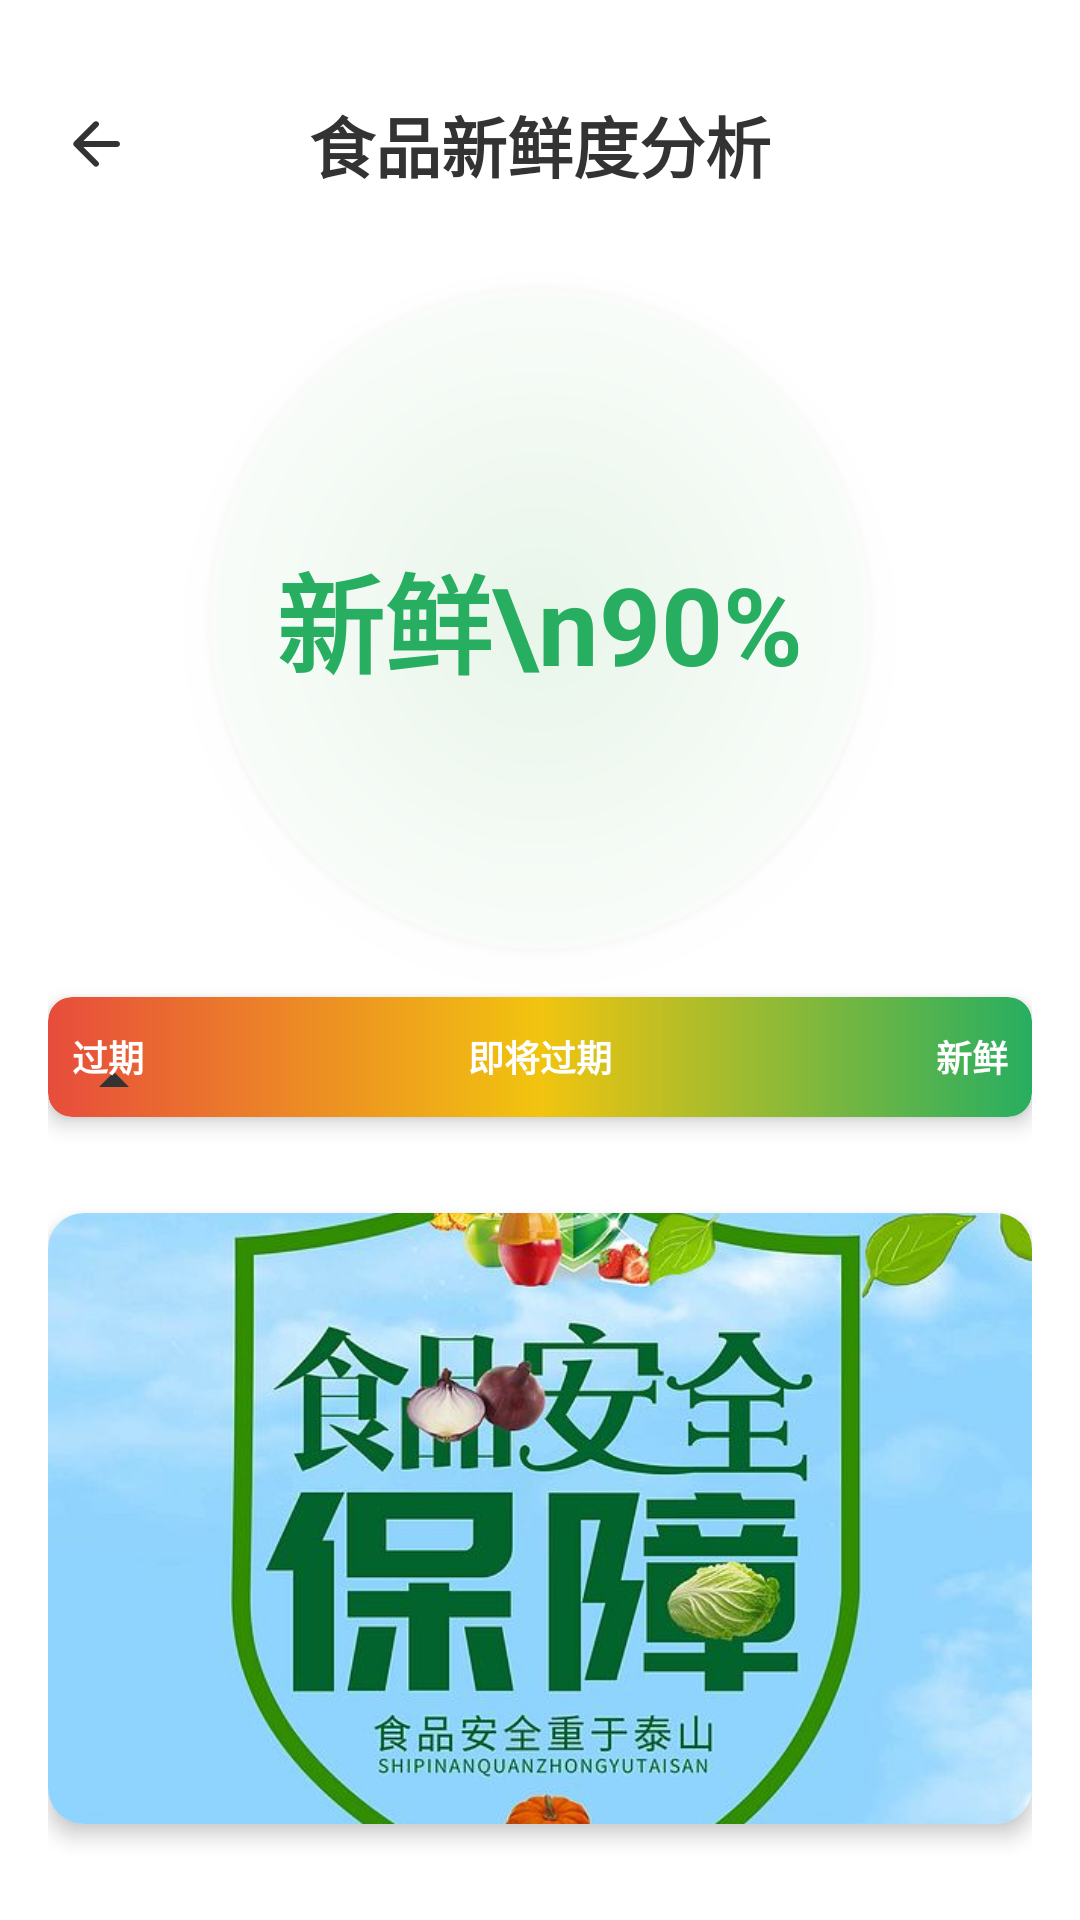

Screen size 1080*1920. Icon name, then its box in pixels as detection(x1, y1, x2, y2):
返回: detection(73, 121, 120, 167)
